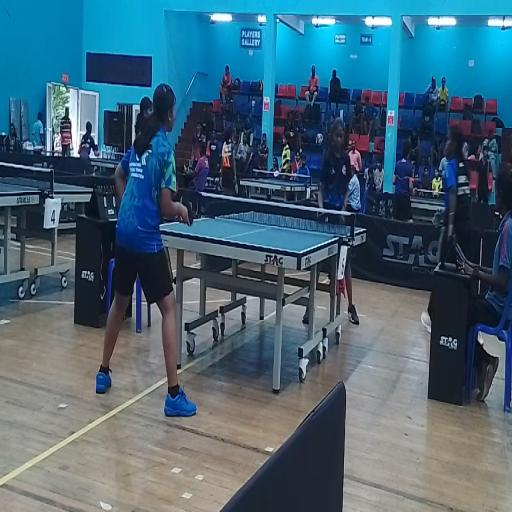ball: (326, 217, 328, 222)
